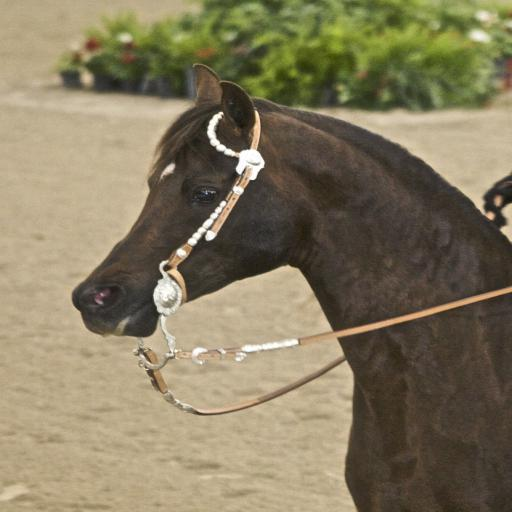horse: (70, 60, 512, 512)
